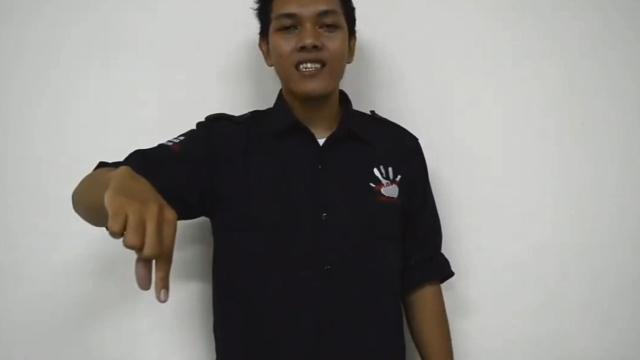Q: (100, 163, 186, 306)
